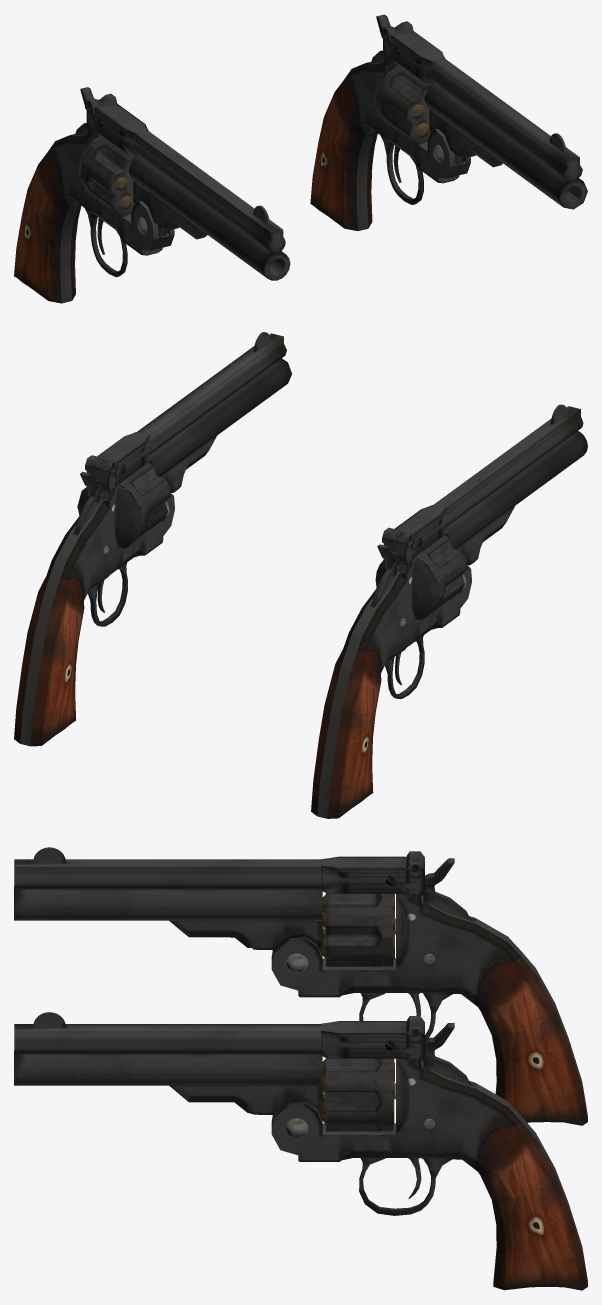
Rendered from schofield-pistol-low-high.FBX.
The picture shows the model from 3 angles, top to bottom: view 1: azimuth 30°, elevation 25°; view 2: azimuth 150°, elevation 25°; view 3: azimuth 270°, elevation 25°; orthographic projection. The views are drawn at different scales.
Visible parts, largest first — view 1: Object_lowpoly, Object_Highpoly; view 2: Object_lowpoly, Object_Highpoly; view 3: Object_lowpoly, Object_Highpoly.
Boxes of the visible parts, x1=… form: Object_lowpoly: x1=310, y1=14, x2=587, y2=230; Object_Highpoly: x1=14, y1=87, x2=290, y2=303; Object_lowpoly: x1=14, y1=332, x2=291, y2=746; Object_Highpoly: x1=311, y1=404, x2=587, y2=818; Object_lowpoly: x1=14, y1=1012, x2=587, y2=1290; Object_Highpoly: x1=14, y1=847, x2=587, y2=1125.
Bounding box in the file's own units: 110 × 69.58 × 133.
1 material, 1 textured.
